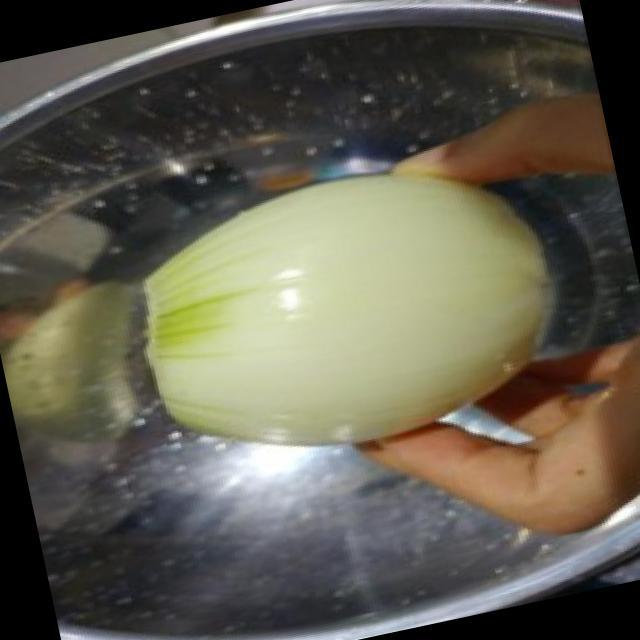Onion: (146, 177, 551, 446)
